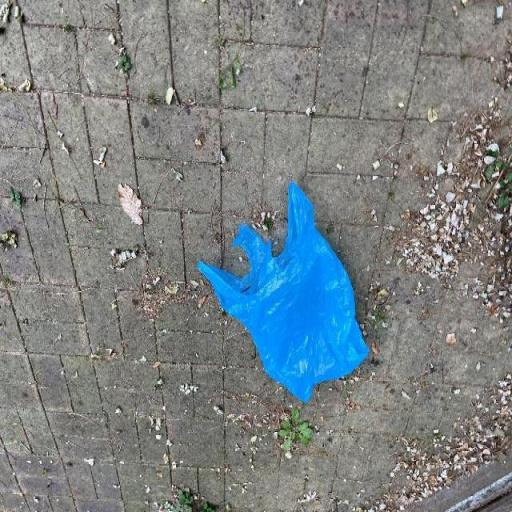plastic-bag: (196, 172, 372, 407)
